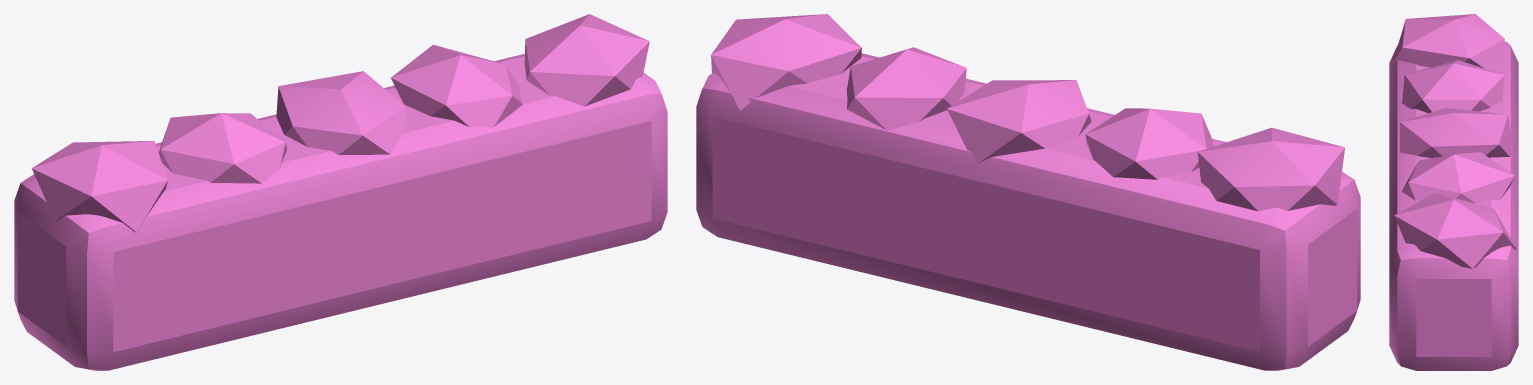
The model's file is Street_Hedge.fbx.
3 renders of one model, left to right at view 1: azimuth 30°, elevation 25°; view 2: azimuth 150°, elevation 25°; view 3: azimuth 270°, elevation 25°, orthographic. The views are drawn at different scales.
Visible parts, largest first — view 1: Hedge; view 2: Hedge; view 3: Hedge.
Part boxes in pixels (left/top/right/bottom): Hedge: left=14, top=14, right=667, bottom=370; Hedge: left=696, top=14, right=1360, bottom=370; Hedge: left=1389, top=14, right=1518, bottom=370.
Bounding box in the file's own units: 10 × 3.26 × 2.4.
Materials: 1 (1 with a texture image).
